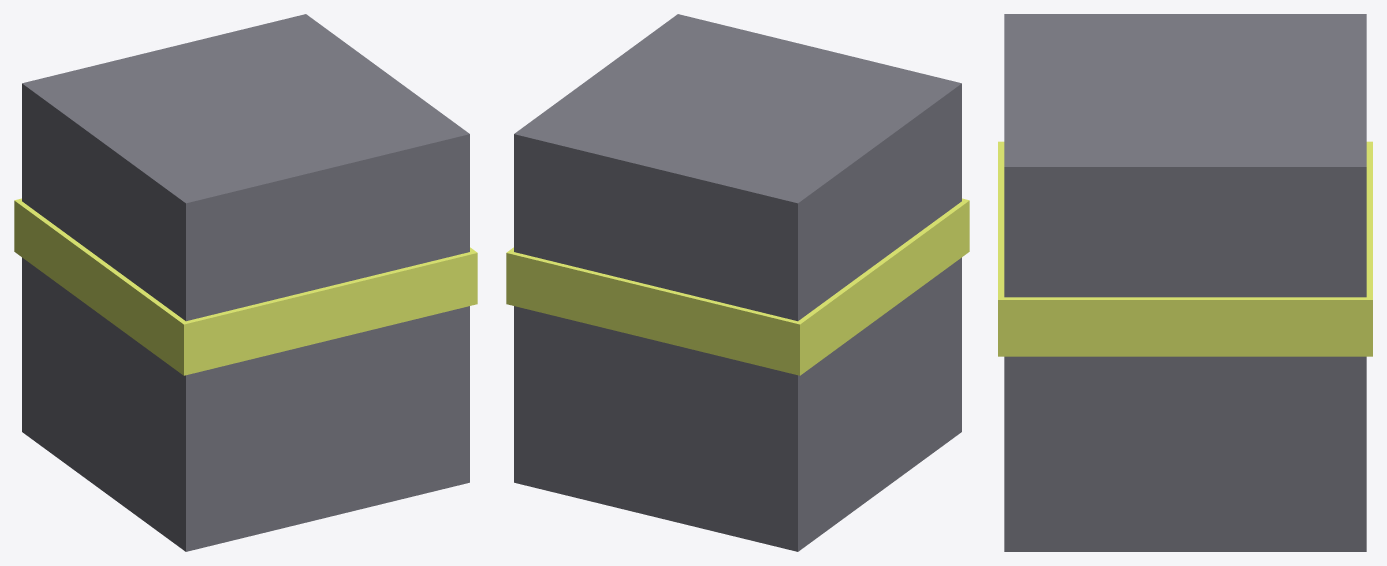
Rendered from bombeiro_resgate_manga_sup.glb.
3 views of the same model, side by side, from view 1: azimuth 30°, elevation 25°; view 2: azimuth 150°, elevation 25°; view 3: azimuth 270°, elevation 25° (orthographic). The views are drawn at different scales.
Parts seen in each view (by area): view 1: bombeiro_resgate_manga_sup; view 2: bombeiro_resgate_manga_sup; view 3: bombeiro_resgate_manga_sup.
Boxes of the visible parts, <box> form: bombeiro_resgate_manga_sup: <box>14,14,477,551</box>; bombeiro_resgate_manga_sup: <box>506,14,969,551</box>; bombeiro_resgate_manga_sup: <box>998,14,1372,551</box>.
Bounding box in the file's own units: 0.3 × 0.34 × 0.3.
